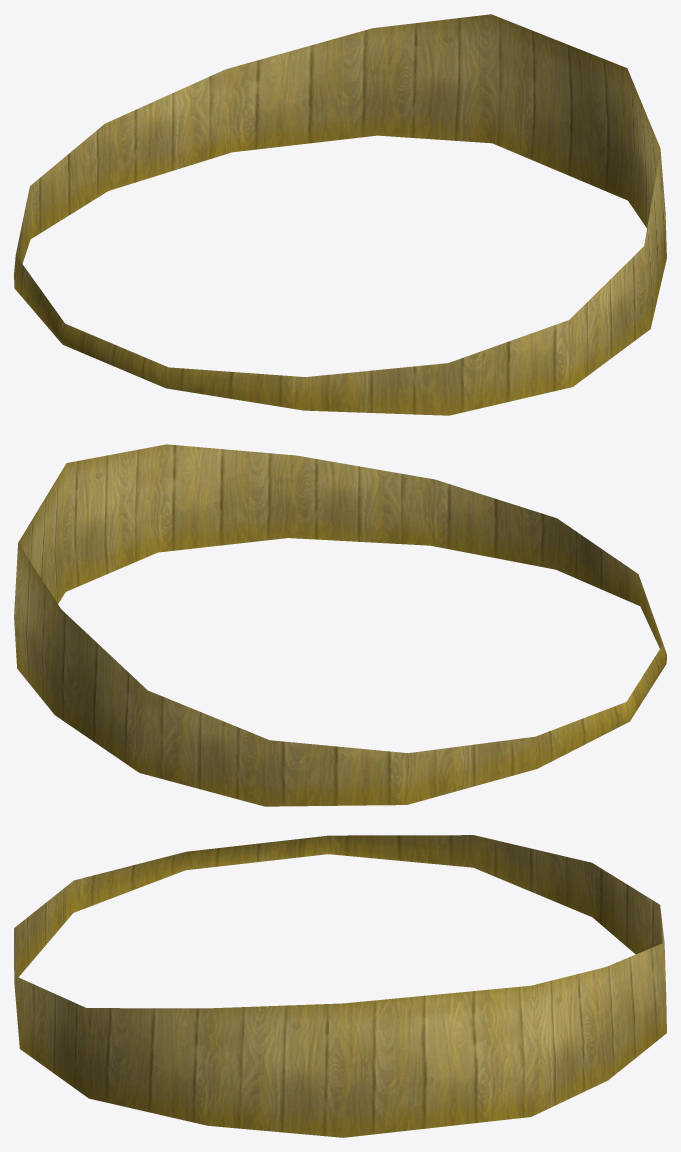
The model's file is HTOWN01_HANNA-WALLS.fbx.
The picture shows the model from 3 angles, top to bottom: view 1: azimuth 30°, elevation 25°; view 2: azimuth 150°, elevation 25°; view 3: azimuth 270°, elevation 25°; orthographic projection. The views are drawn at different scales.
Visible parts, largest first — view 1: HTOWN01_HANNA-WALLS; view 2: HTOWN01_HANNA-WALLS; view 3: HTOWN01_HANNA-WALLS.
Boxes of the visible parts, left/top/right/bottom form: HTOWN01_HANNA-WALLS: left=14, top=14, right=666, bottom=415; HTOWN01_HANNA-WALLS: left=14, top=444, right=666, bottom=806; HTOWN01_HANNA-WALLS: left=14, top=835, right=666, bottom=1137.
Bounding box in the file's own units: 68591 × 17054 × 66601.
1 material, 1 textured.
